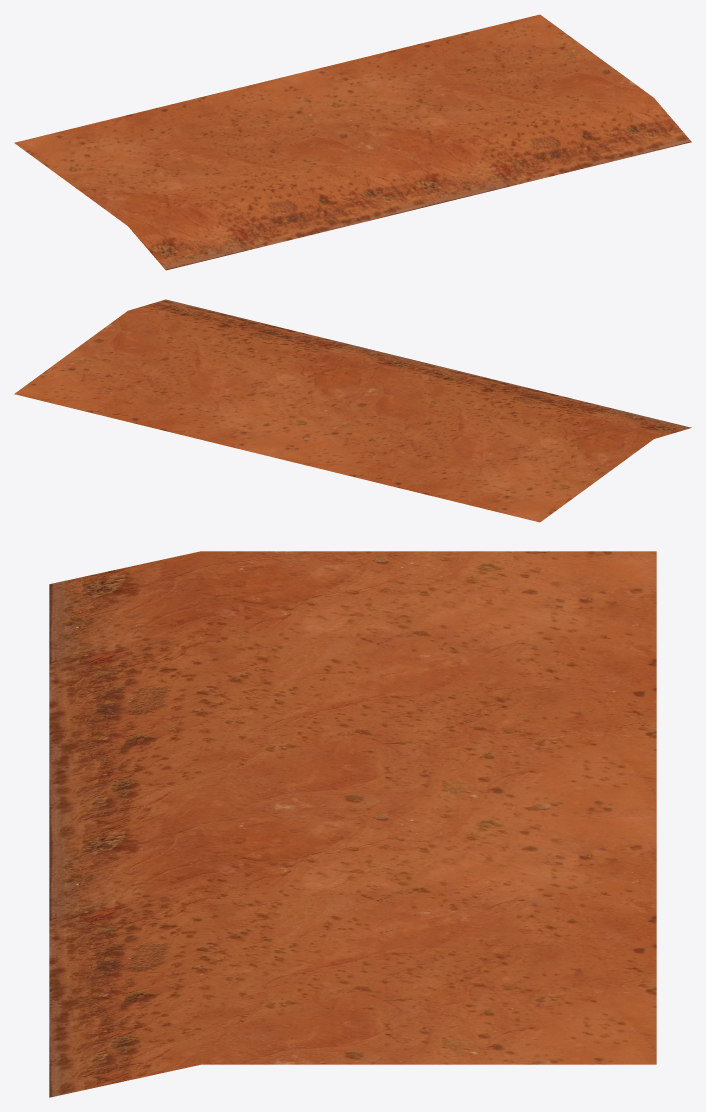
The picture shows the model from 3 angles, top to bottom: view 1: azimuth 30°, elevation 25°; view 2: azimuth 150°, elevation 25°; view 3: azimuth 270°, elevation 25°; orthographic projection. The views are drawn at different scales.
Parts seen in each view (by area): view 1: BG_base_red; view 2: BG_base_red; view 3: BG_base_red.
Boxes of the visible parts, bbox=[...] form: BG_base_red: bbox=[14, 14, 691, 270]; BG_base_red: bbox=[14, 299, 691, 522]; BG_base_red: bbox=[49, 551, 656, 1097].
Size of the model in its own units: 10000 by 300 by 5000.
1 material, 1 textured.
